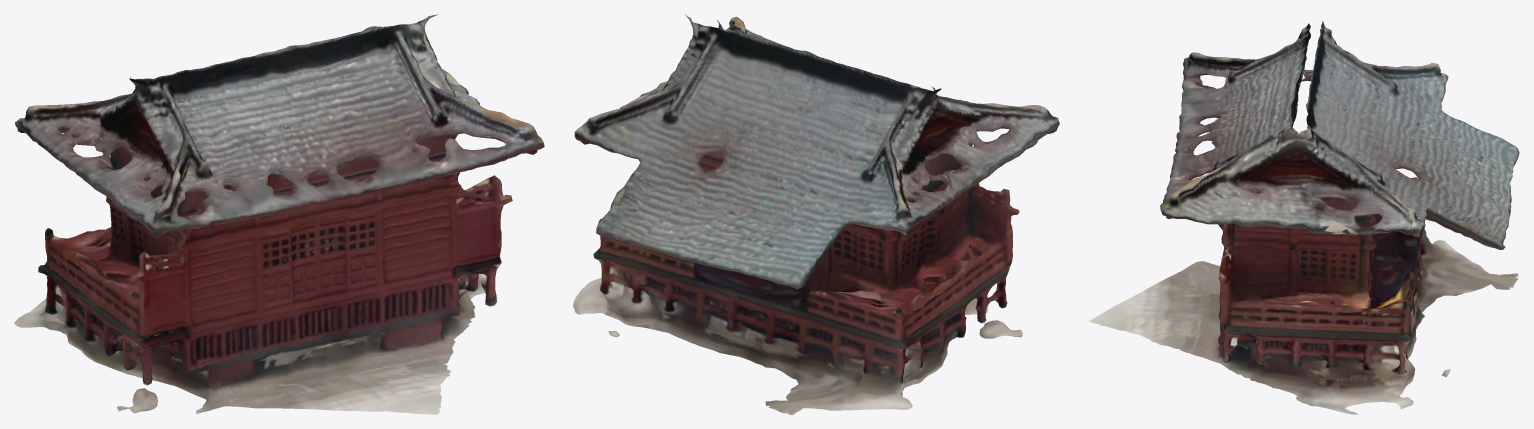
File: zinzya1.glb
The picture shows the model from 3 angles, left to right: view 1: azimuth 30°, elevation 25°; view 2: azimuth 150°, elevation 25°; view 3: azimuth 270°, elevation 25°; orthographic projection. The views are drawn at different scales.
Parts seen in each view (by area): view 1: 548d1a7c-7061-4933-94f6-4c7fc828d1ba; view 2: 548d1a7c-7061-4933-94f6-4c7fc828d1ba; view 3: 548d1a7c-7061-4933-94f6-4c7fc828d1ba.
Boxes of the visible parts, bbox=[...] form: 548d1a7c-7061-4933-94f6-4c7fc828d1ba: bbox=[14, 14, 544, 414]; 548d1a7c-7061-4933-94f6-4c7fc828d1ba: bbox=[573, 14, 1059, 414]; 548d1a7c-7061-4933-94f6-4c7fc828d1ba: bbox=[1089, 20, 1519, 414].
Bounding box in the file's own units: 0.6373 × 0.4433 × 0.6742.
1 material, 1 textured.
